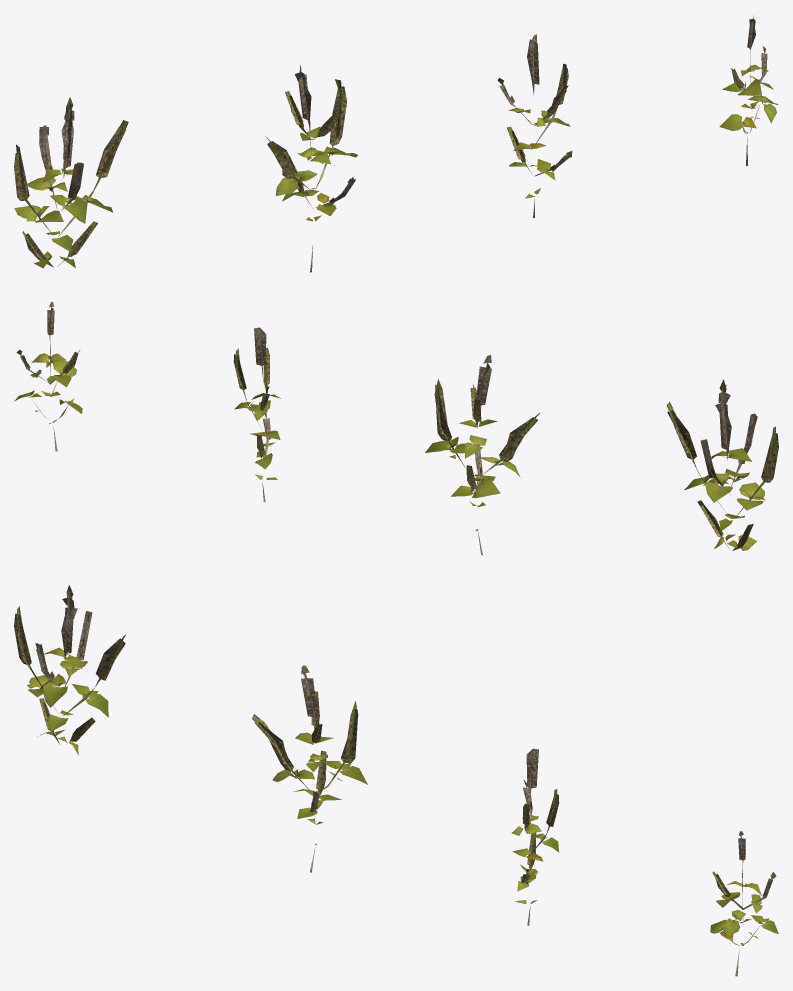
Rendered from shrub_03.glb.
3 renders of one model, top to bottom at view 1: azimuth 30°, elevation 25°; view 2: azimuth 150°, elevation 25°; view 3: azimuth 330°, elevation 25°, orthographic. The views are drawn at different scales.
Visible parts, largest first — view 1: shrub_03_a; view 2: shrub_03_a; view 3: shrub_03_a.
Part boxes in pixels (bbox=[...]): shrub_03_a: bbox=[14, 15, 778, 272]; shrub_03_a: bbox=[14, 301, 778, 555]; shrub_03_a: bbox=[14, 585, 778, 976].
Size of the model in its own units: 1.37 by 0.4019 by 0.1512.
Materials: 1 (1 with a texture image).
